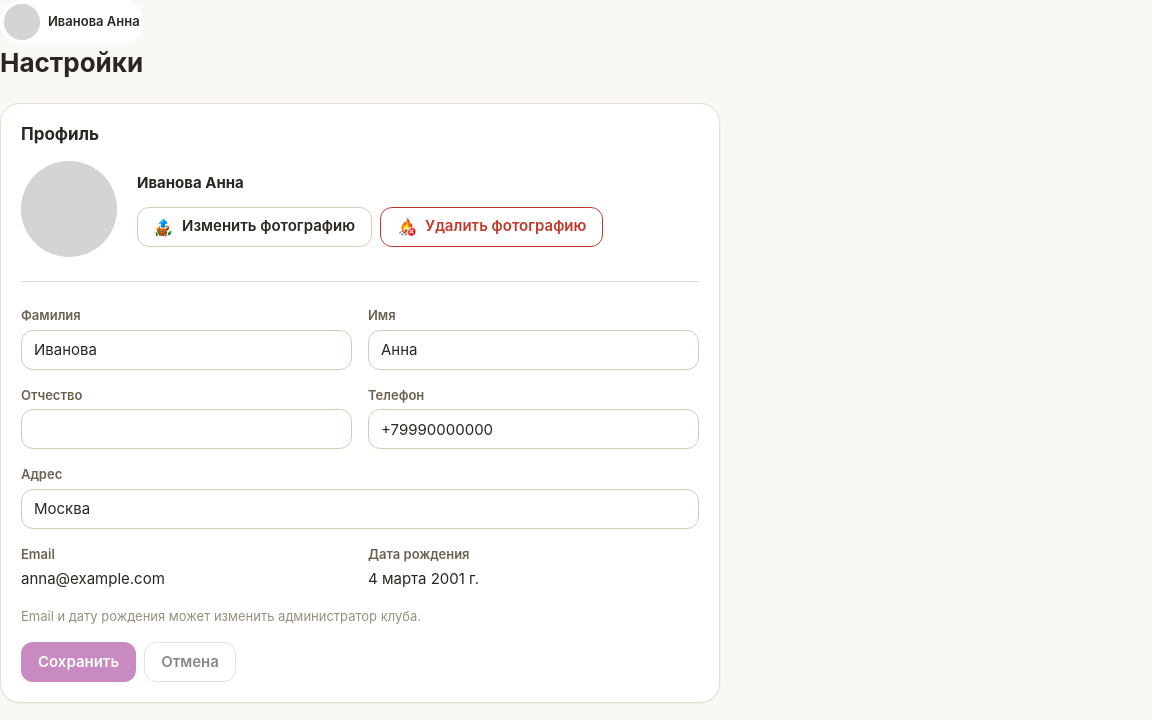
Scenario: SettingsPage profile photo (TH-0119) › delete returns the ProfileMenu to initials without reload
This screenshot has width=1152, height=720.
Click the button "Удалить фотографию": {"x": 492, "y": 226} [380, 206, 603, 246]
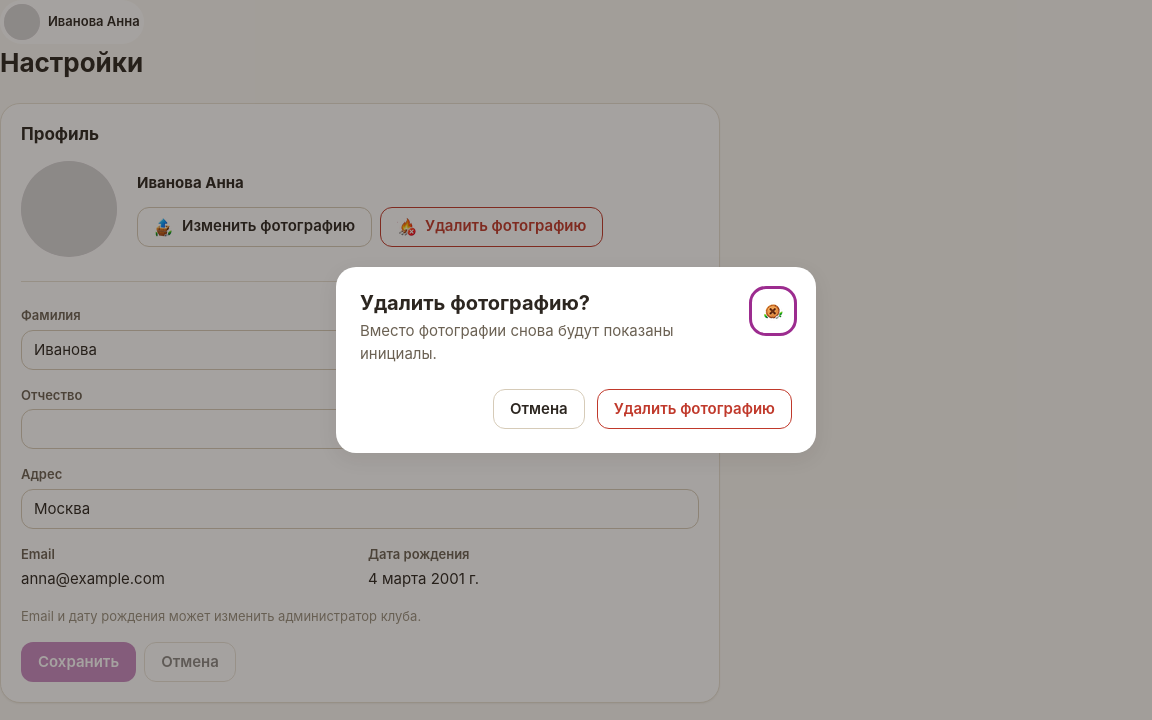
Click the button "Удалить фотографию": {"x": 694, "y": 409} [597, 389, 792, 429]
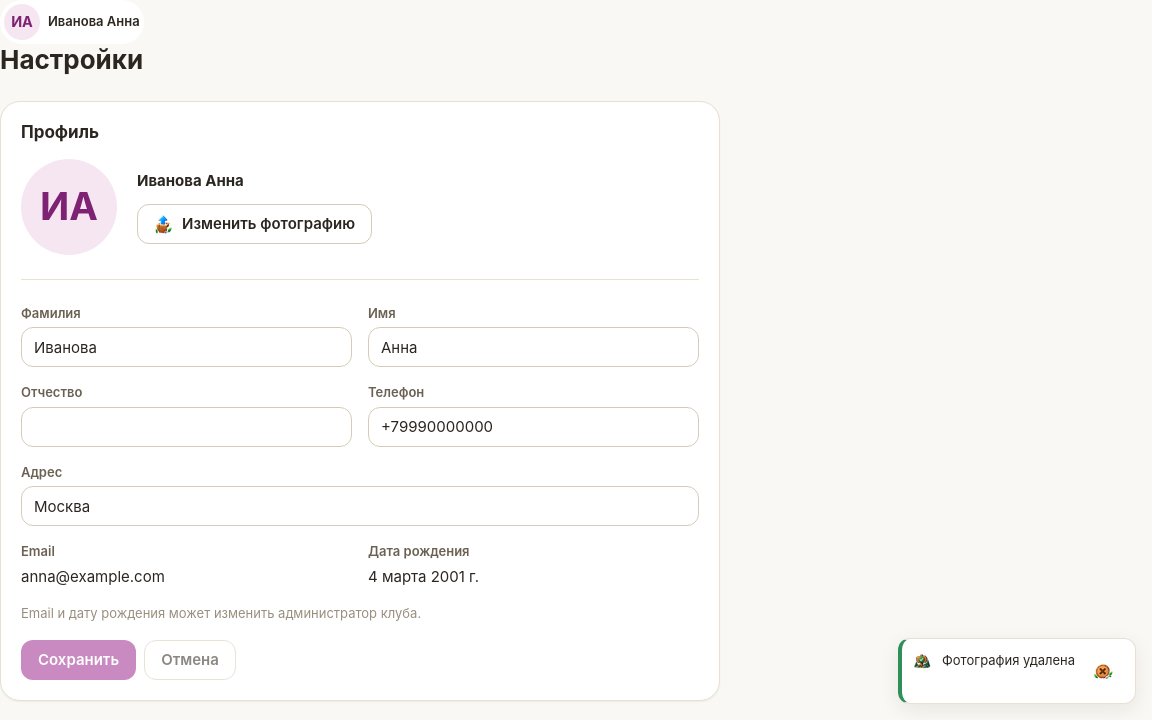
expect the button "ИА Иванова Анна" is shown: met, box [0, 0, 144, 44]
expect the button "Удалить фотографию" is gone: met
